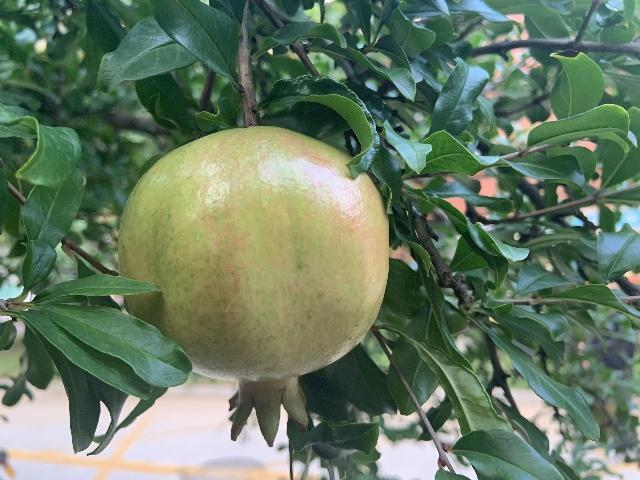mid-growth: (115, 125, 390, 446)
